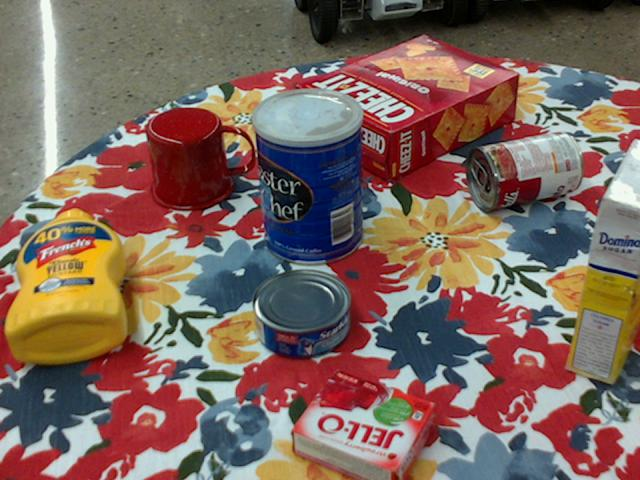cracker_box: (298, 37, 521, 182)
gelatin_box: (293, 371, 441, 479)
master_chef_can: (252, 87, 364, 265)
mug: (146, 106, 254, 211)
mustard_bottle: (6, 208, 127, 363)
sugar_box: (568, 138, 639, 385)
tomato_soup_can: (467, 129, 584, 211)
tuna_fish_can: (252, 269, 351, 359)
